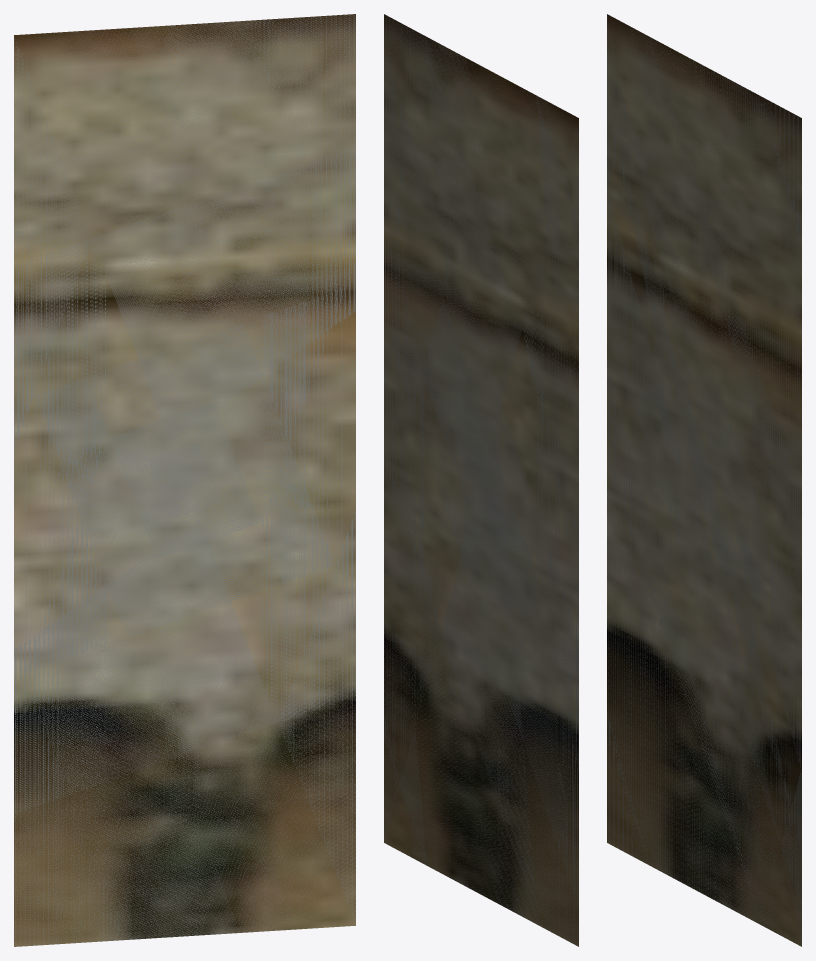
File: 西庸城堡141.dae
The picture shows the model from 3 angles, left to right: view 1: azimuth 30°, elevation 25°; view 2: azimuth 150°, elevation 25°; view 3: azimuth 330°, elevation 25°; orthographic projection. The views are drawn at different scales.
Parts seen in each view (by area): view 1: SketchUp; view 2: SketchUp; view 3: SketchUp.
Part boxes in pixels (bbox=[...]): SketchUp: bbox=[14, 14, 355, 946]; SketchUp: bbox=[384, 14, 578, 946]; SketchUp: bbox=[607, 14, 801, 946].
Bounding box in the file's own units: 37.7 × 14.98 × 118.
